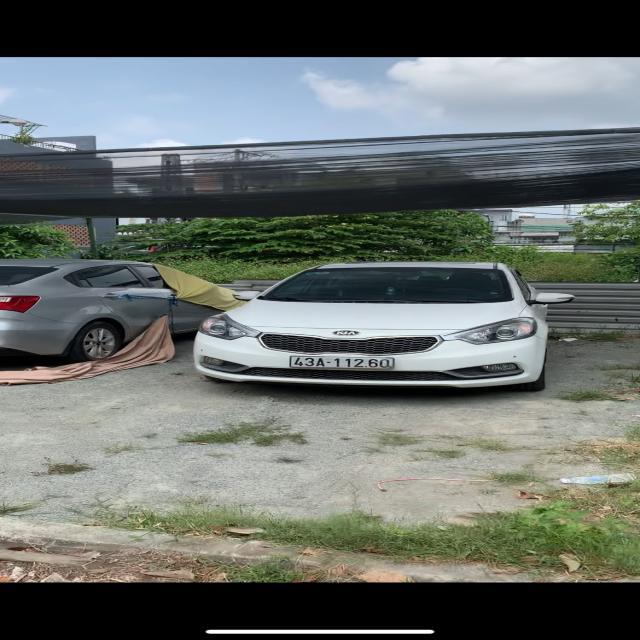car: (196, 248, 557, 404), (0, 254, 181, 391)
plate: (278, 343, 406, 379)
